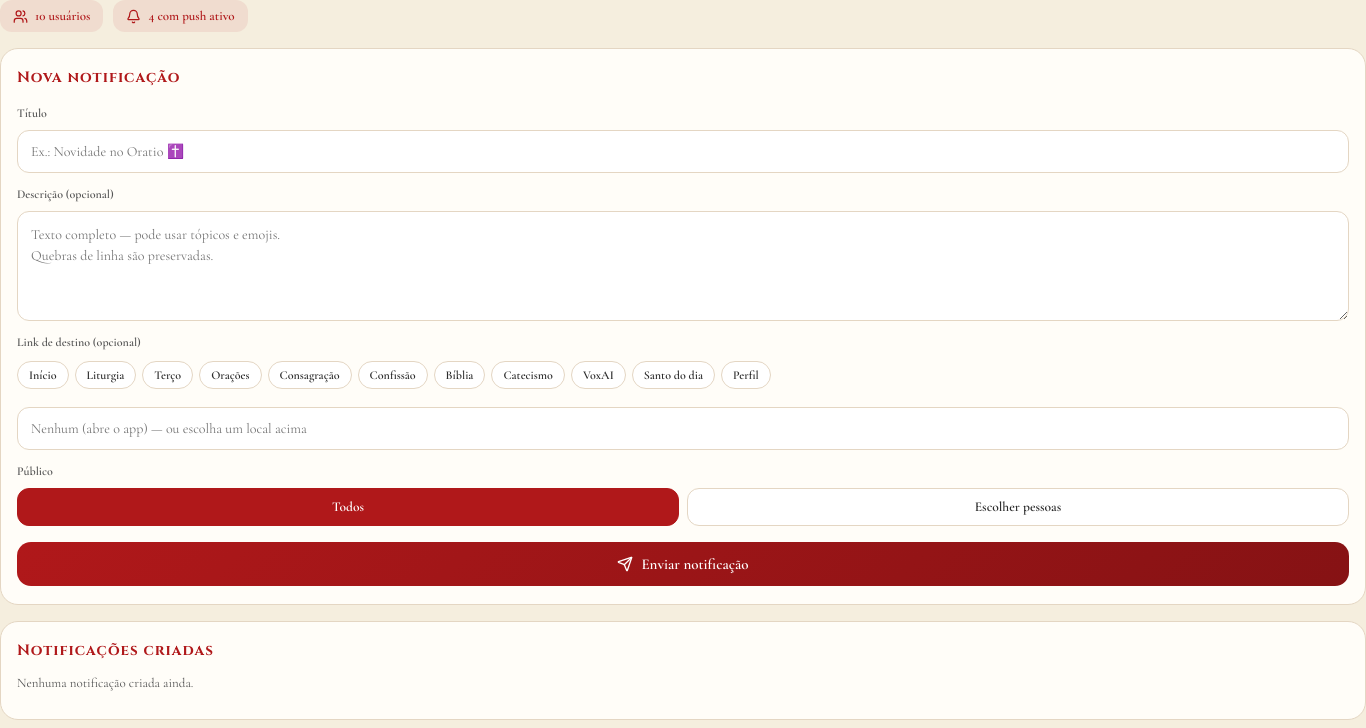
it: AdminNotifications › blocks sending to specific people with none selected
Type "Aviso" into the field with placeholder "Ex.: Novidade no Oratio ✝️" at (683, 152), box x1=17 y1=130 x2=1349 y2=173
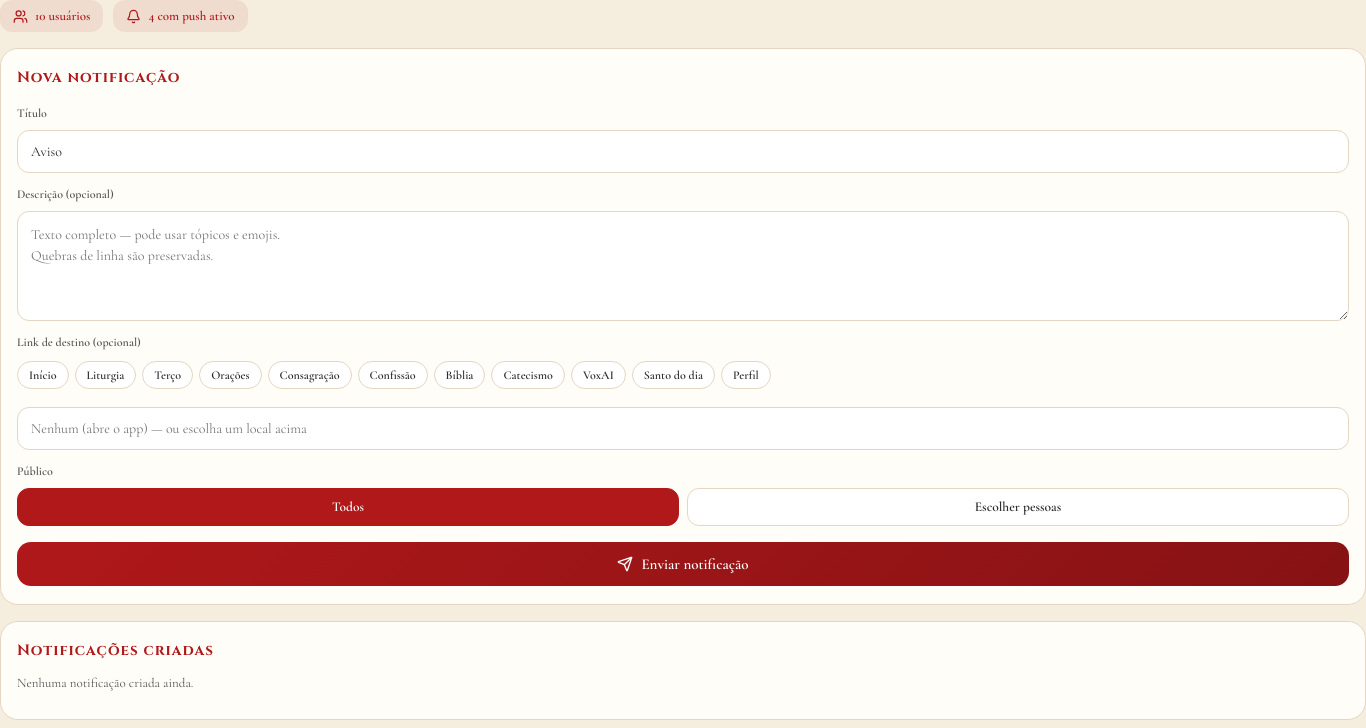
Click the button "Escolher pessoas" at (1018, 507), box x1=687 y1=488 x2=1349 y2=526
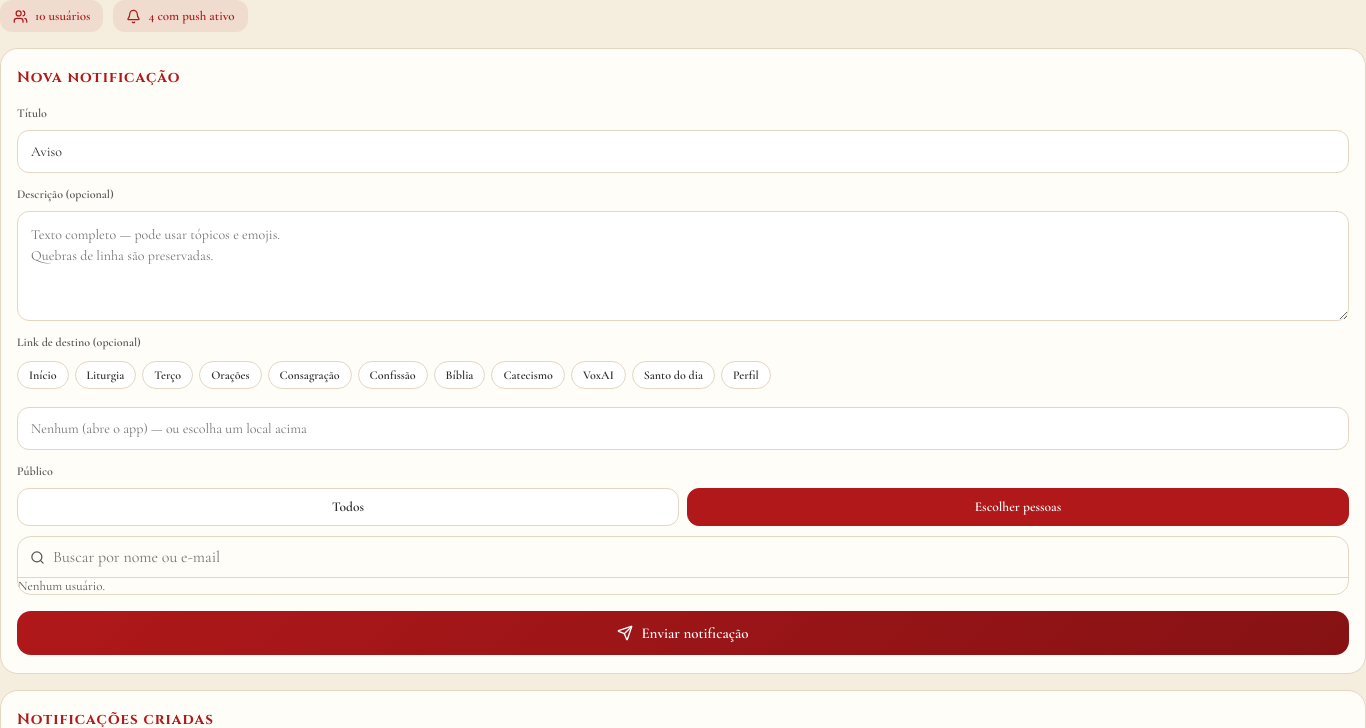
Click the button "Enviar notificação" at (683, 633), box x1=17 y1=611 x2=1349 y2=655
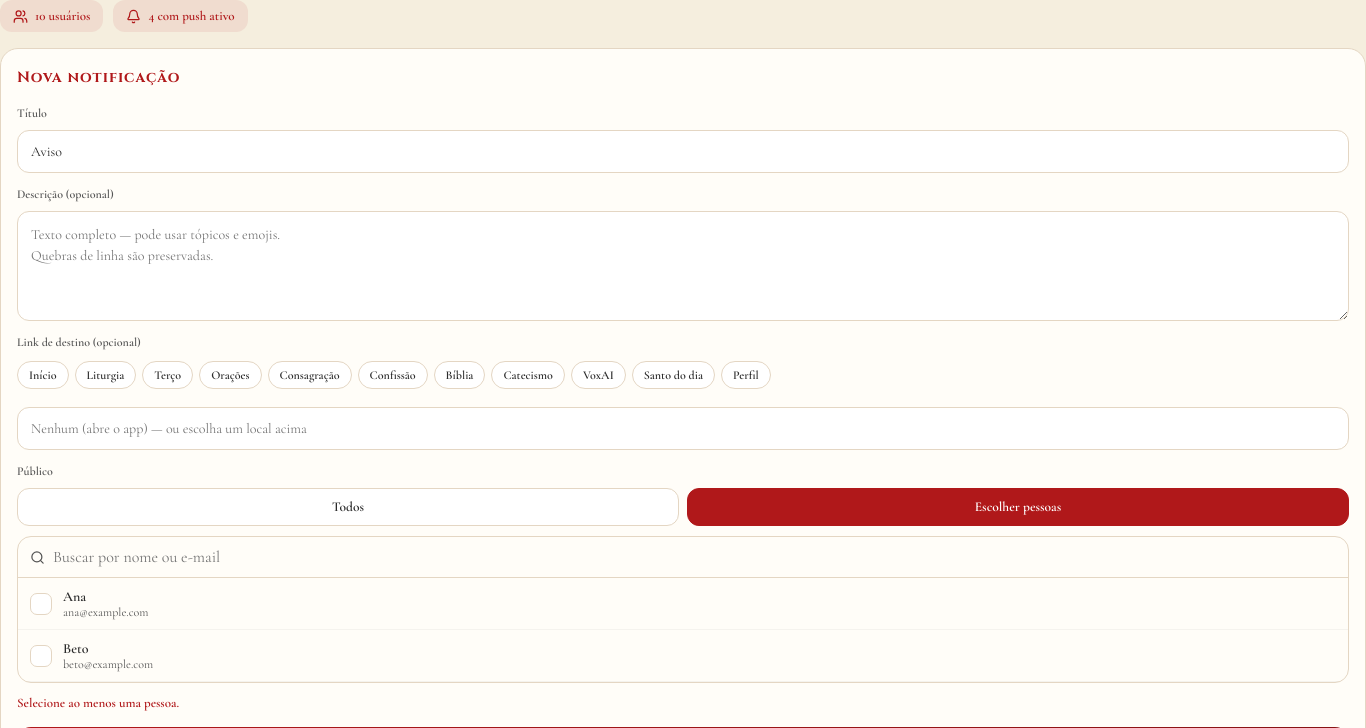
Now the text "Selecione ao menos uma pessoa." is shown, box x1=17 y1=695 x2=179 y2=711
